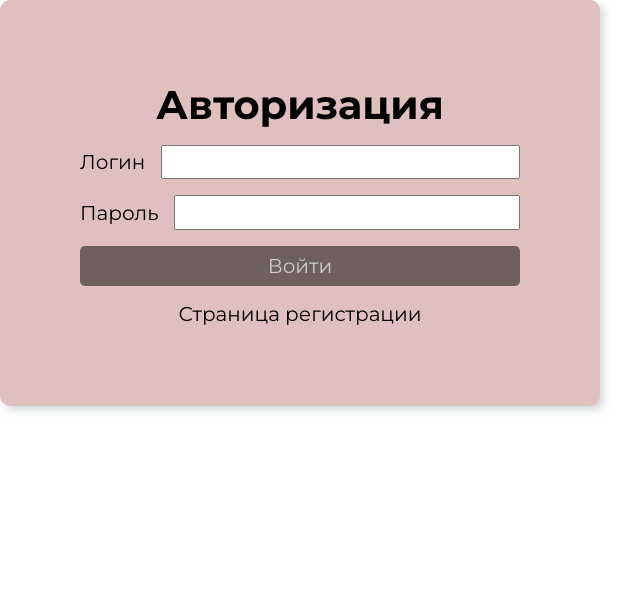
Test: Login page › anchor should link to register page
Click the link "Страница регистрации": (300, 314) [178,302,422,326]
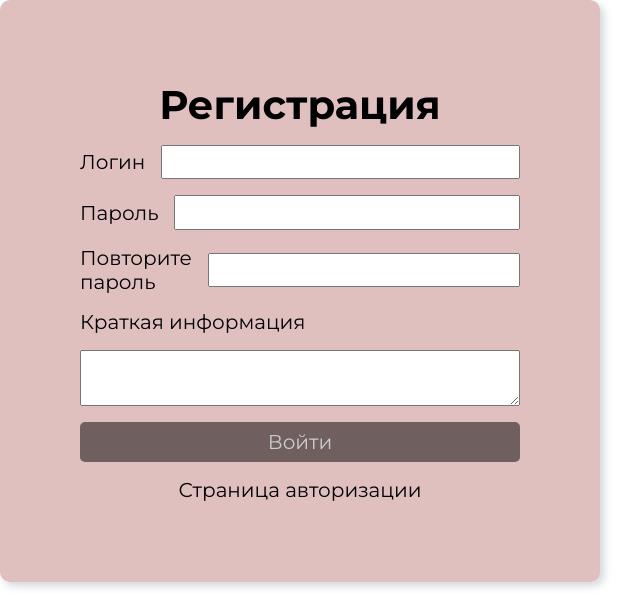
Check: the heading "Регистрация" is shown, box [159,80,441,129]
